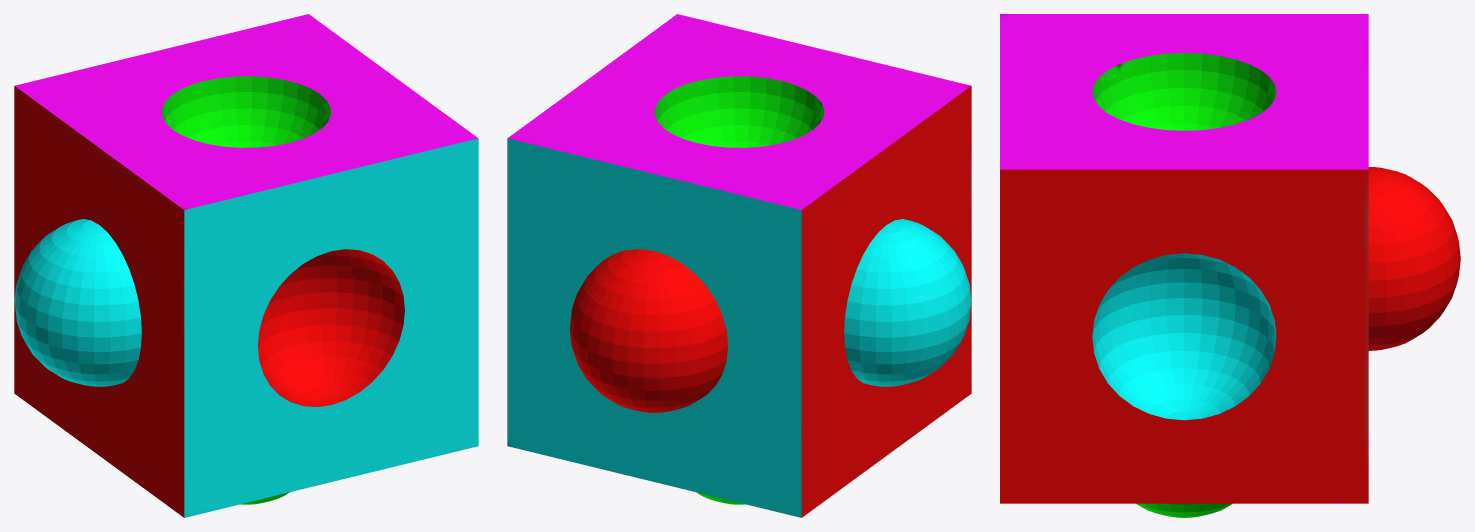
File: modell.obj
3 views of the same model, side by side, from view 1: azimuth 30°, elevation 25°; view 2: azimuth 150°, elevation 25°; view 3: azimuth 270°, elevation 25° (orthographic). The views are drawn at different scales.
Parts seen in each view (by area): view 1: Cube; view 2: Cube; view 3: Cube.
Boxes of the visible parts, x1=… form: Cube: x1=14, y1=14, x2=478, y2=517; Cube: x1=507, y1=14, x2=971, y2=517; Cube: x1=1000, y1=14, x2=1460, y2=517.
Size of the model in its own units: 2.5 by 2.5 by 2.5.
1 material, 1 textured.
